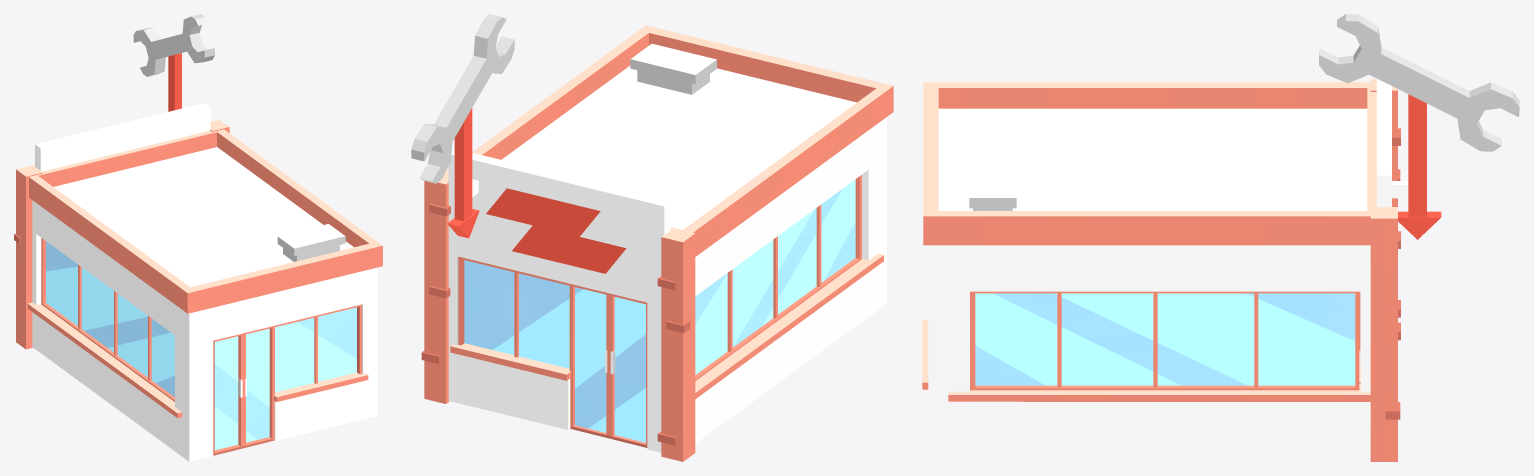
Rendered from services.005.glb.
3 views of the same model, side by side, from view 1: azimuth 30°, elevation 25°; view 2: azimuth 150°, elevation 25°; view 3: azimuth 270°, elevation 25° (orthographic). The views are drawn at different scales.
Visible parts, largest first — view 1: services.005(Clone); view 2: services.005(Clone); view 3: services.005(Clone).
Part boxes in pixels (<box>): services.005(Clone): <box>14,14,382,461</box>; services.005(Clone): <box>411,14,893,461</box>; services.005(Clone): <box>922,14,1519,461</box>.
Bounding box in the file's own units: 4.04 × 5.56 × 7.2.
1 material, 1 textured.
